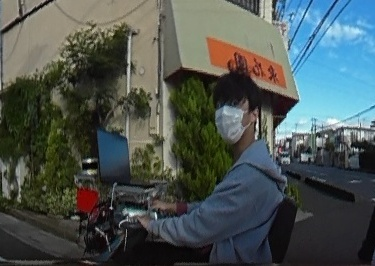person: (149, 68, 282, 266)
